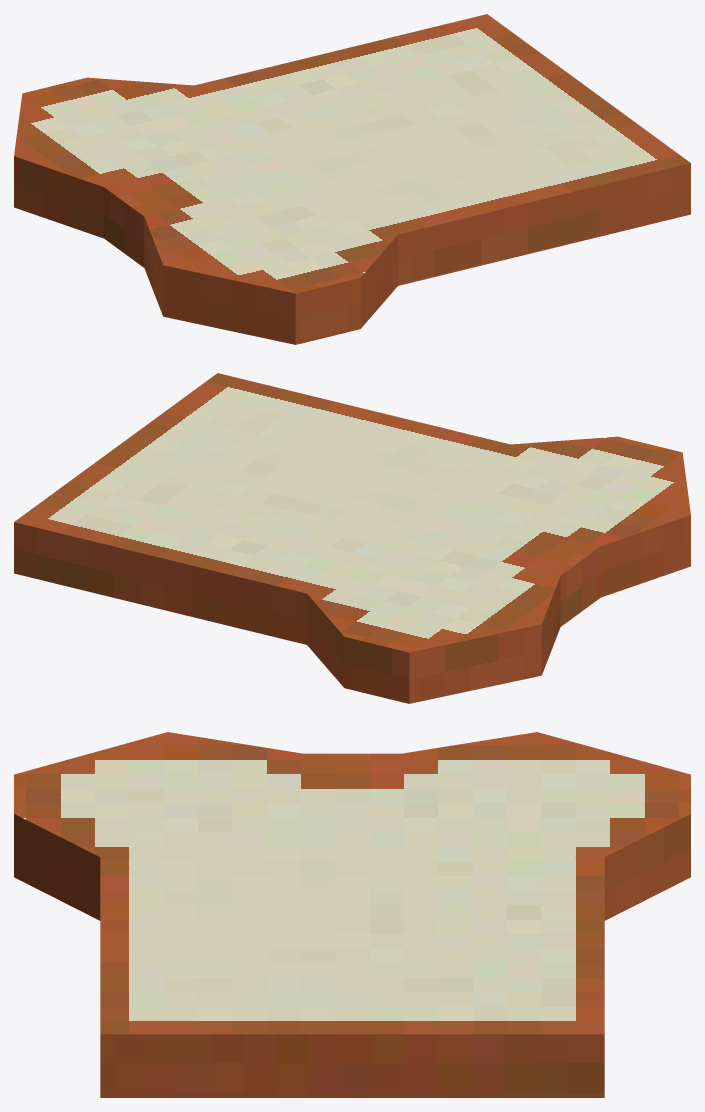
Rendered from Bread.obj.
3 renders of one model, top to bottom at view 1: azimuth 30°, elevation 25°; view 2: azimuth 150°, elevation 25°; view 3: azimuth 270°, elevation 25°, orthographic. The views are drawn at different scales.
Parts seen in each view (by area): view 1: pCube41; view 2: pCube41; view 3: pCube41.
Part boxes in pixels (x1,y1,x2,y2): pCube41: (14, 14, 690, 344); pCube41: (14, 373, 690, 703); pCube41: (14, 732, 690, 1097).
Bounding box in the file's own units: 0.5098 × 0.05 × 0.4824.
Materials: 1 (1 with a texture image).
